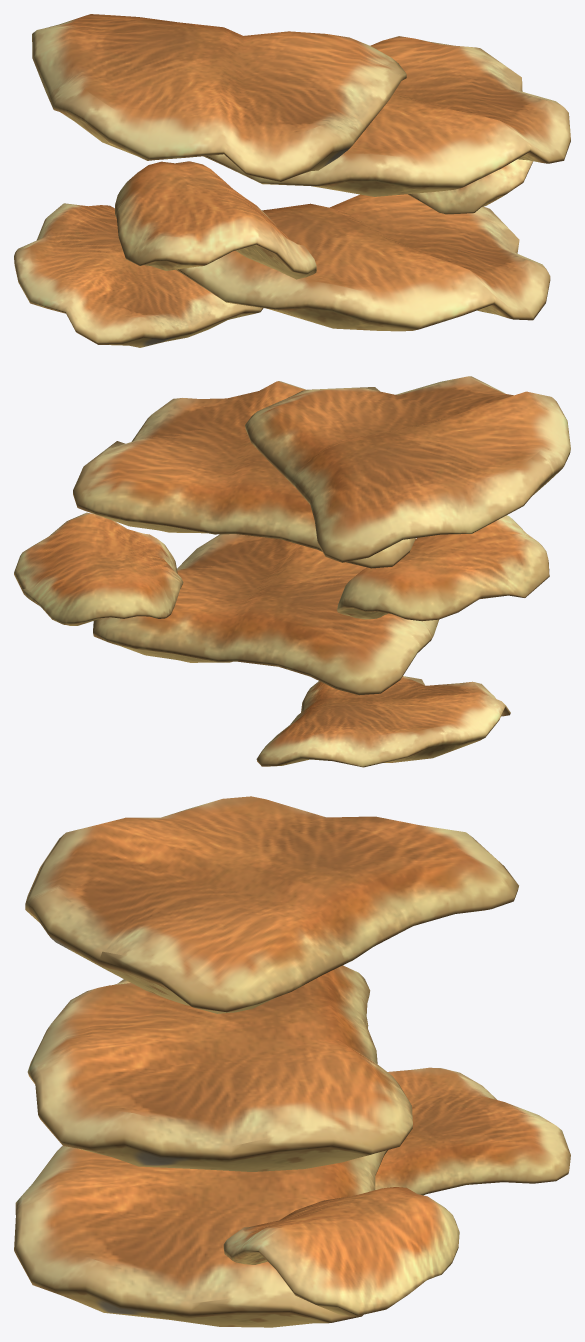
Rendered from Mushroom_Laetiporus.gltf.
The picture shows the model from 3 angles, top to bottom: view 1: azimuth 30°, elevation 25°; view 2: azimuth 150°, elevation 25°; view 3: azimuth 270°, elevation 25°; orthographic projection. The views are drawn at different scales.
Parts seen in each view (by area): view 1: Mushroom_Laetiporus; view 2: Mushroom_Laetiporus; view 3: Mushroom_Laetiporus.
Boxes of the visible parts, x1,y1,x2,y2 form: Mushroom_Laetiporus: [14, 14, 570, 347]; Mushroom_Laetiporus: [14, 376, 570, 767]; Mushroom_Laetiporus: [14, 796, 570, 1327].
Size of the model in its own units: 1.37 by 0.767 by 1.1.
1 material, 1 textured.
